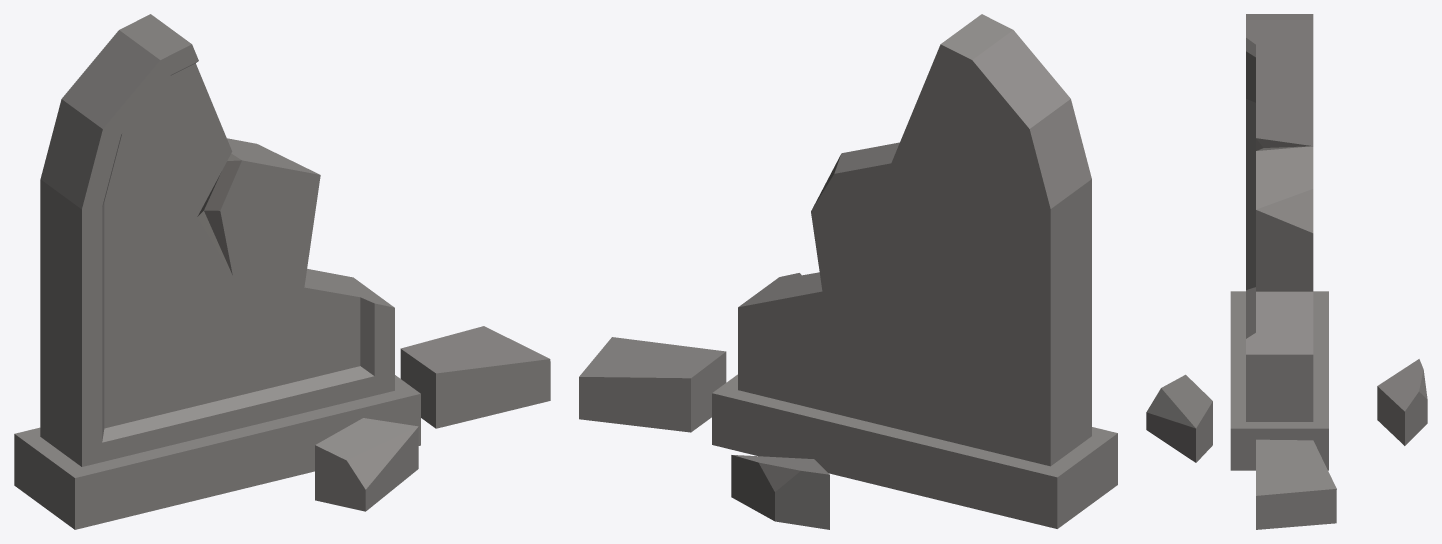
The model's file is SM_Props_Graveyard_05.fbx.
The picture shows the model from 3 angles, left to right: view 1: azimuth 30°, elevation 25°; view 2: azimuth 150°, elevation 25°; view 3: azimuth 270°, elevation 25°; orthographic projection. The views are drawn at different scales.
Parts seen in each view (by area): view 1: SM_Props_Graveyard_05; view 2: SM_Props_Graveyard_05; view 3: SM_Props_Graveyard_05.
Boxes of the visible parts, x1,y1,x2,y2 form: SM_Props_Graveyard_05: [14, 14, 550, 529]; SM_Props_Graveyard_05: [579, 14, 1117, 529]; SM_Props_Graveyard_05: [1146, 14, 1427, 529].
Bounding box in the file's own units: 297 × 260 × 182.
